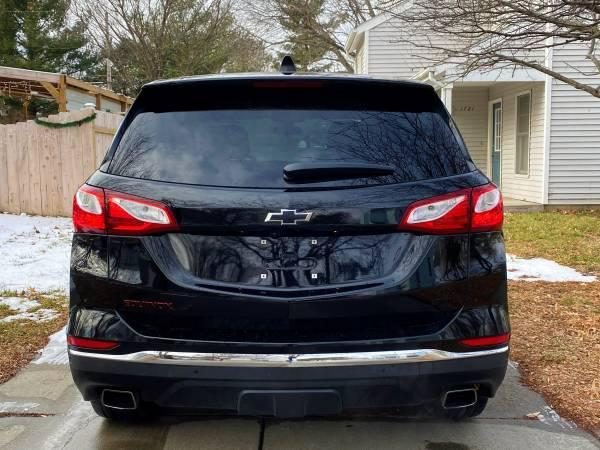Left_Taillight: (72, 184, 178, 233)
Rear_Bumper: (66, 232, 513, 416)
Rear_Windshield: (101, 80, 474, 191)
Right_Taillight: (401, 181, 504, 233)
Tailgate: (82, 168, 489, 342)
